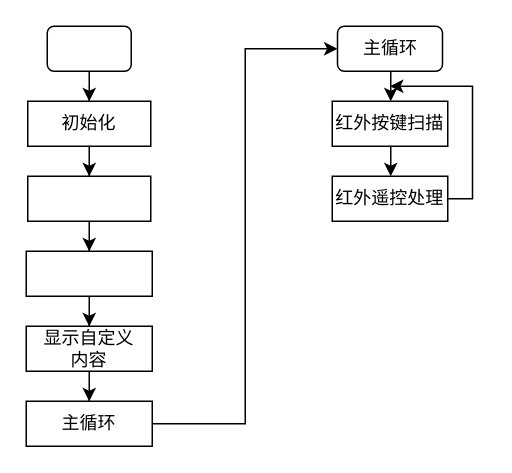
This 512x473 diagram has some shape labels left out. The centre of each missing label's shape, as x and y in pixels:
"RGB蓝色" goes at (x=88, y=273).
"开机" goes at (x=88, y=48).
"显示图片" goes at (x=88, y=198).
